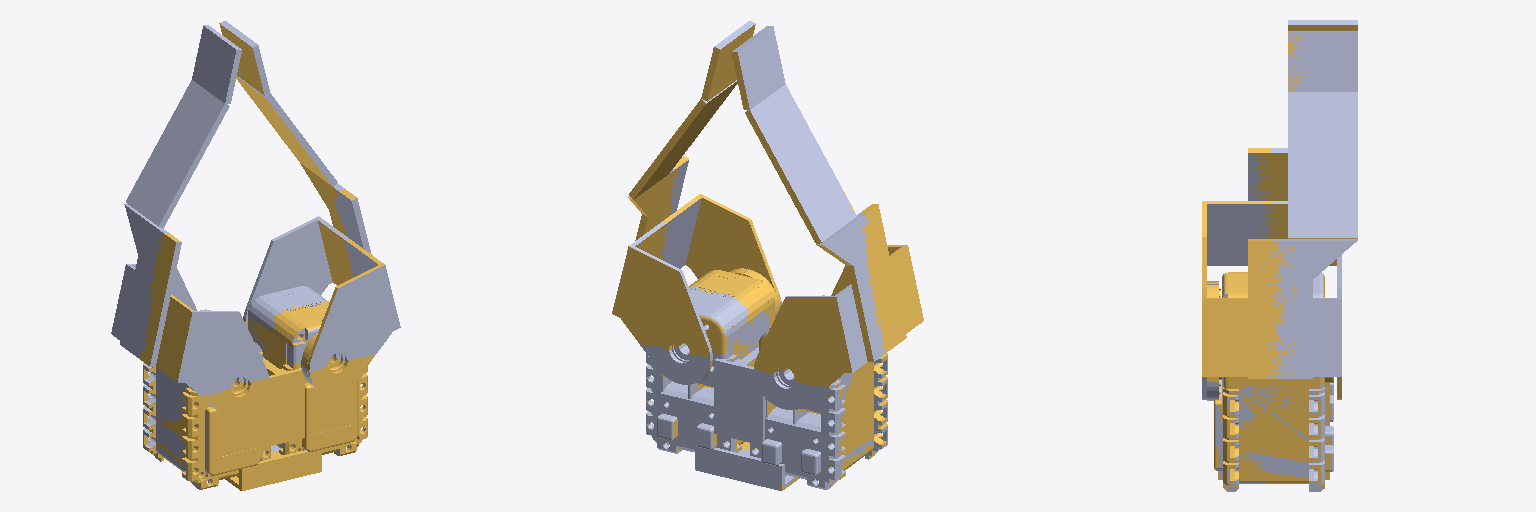
robot.urdf — iner_gripper:
<robot
  name="iner_gripper">
  <link
    name="link_gripper">
    <inertial>
      <origin
        xyz="0.0186360000045784 -0.0239524819276603 -4.86322103742292E-06"
        rpy="0 0 0" />
      <mass
        value="0.00620045258525398" />
      <inertia
        ixx="2.10353421967729E-06"
        ixy="4.27721992210268E-16"
        ixz="1.76022005561585E-17"
        iyy="1.23544763674616E-06"
        iyz="-4.55763759743226E-10"
        izz="1.33321993660794E-06" />
    </inertial>
    <visual>
      <origin
        xyz="0 0 0"
        rpy="0 0 0" />
      <geometry>
        <mesh
          filename="package://iner_gripper/meshes/link_gripper.STL" />
      </geometry>
      <material
        name="">
        <color
          rgba="1 0.815686274509804 0.403921568627451 1" />
      </material>
    </visual>
    <collision>
      <origin
        xyz="0 0 0"
        rpy="0 0 0" />
      <geometry>
        <mesh
          filename="package://iner_gripper/meshes/link_gripper.STL" />
      </geometry>
    </collision>
  </link>
  <link
    name="link_finger0">
    <inertial>
      <origin
        xyz="-0.0017581 -0.002764 -0.00033443"
        rpy="0 0 0" />
      <mass
        value="0.051949" />
      <inertia
        ixx="4.6849E-05"
        ixy="1.3689E-06"
        ixz="1.6512E-08"
        iyy="1.1379E-05"
        iyz="4.819E-06"
        izz="4.442E-05" />
    </inertial>
    <visual>
      <origin
        xyz="0 0 0"
        rpy="0 0 0" />
      <geometry>
        <mesh
          filename="package://iner_gripper/meshes/link_finger0.STL" />
      </geometry>
      <material
        name="">
        <color
          rgba="0.79216 0.81961 0.93333 1" />
      </material>
    </visual>
    <collision>
      <origin
        xyz="0 0 0"
        rpy="0 0 0" />
      <geometry>
        <mesh
          filename="package://iner_gripper/meshes/link_finger0.STL" />
      </geometry>
    </collision>
  </link>
  <joint
    name="joint_finger0"
    type="continuous">
    <origin
      xyz="0 0 0"
      rpy="1.5708 0 0" />
    <parent
      link="link_gripper" />
    <child
      link="link_finger0" />
    <axis
      xyz="0 0 1" />
  </joint>
  <link
    name="link_finger1">
    <inertial>
      <origin
        xyz="0.0016323 -0.0027478 -0.00023083"
        rpy="0 0 0" />
      <mass
        value="0.051949" />
      <inertia
        ixx="4.6873E-05"
        ixy="-1.1823E-06"
        ixz="-5.1839E-08"
        iyy="1.1382E-05"
        iyz="4.8186E-06"
        izz="4.4447E-05" />
    </inertial>
    <visual>
      <origin
        xyz="0 0 0"
        rpy="0 0 0" />
      <geometry>
        <mesh
          filename="package://iner_gripper/meshes/link_finger1.STL" />
      </geometry>
      <material
        name="">
        <color
          rgba="0.79216 0.81961 0.93333 1" />
      </material>
    </visual>
    <collision>
      <origin
        xyz="0 0 0"
        rpy="0 0 0" />
      <geometry>
        <mesh
          filename="package://iner_gripper/meshes/link_finger1.STL" />
      </geometry>
    </collision>
  </link>
  <joint
    name="joint_finger1"
    type="continuous">
    <origin
      xyz="0.037272 0.0001036 0"
      rpy="1.5708 0 0" />
    <parent
      link="link_gripper" />
    <child
      link="link_finger1" />
    <axis
      xyz="0 0 1" />
  </joint>
</robot>

--- What the picture shows (computed from the rendered views, not written in the file) ---
The picture shows the robot from 3 angles, left to right: view 1: azimuth 30°, elevation 25°; view 2: azimuth 150°, elevation 25°; view 3: azimuth 270°, elevation 25°; orthographic projection.
Model iner_gripper with 3 links and 2 joints (2 continuous), rooted at link_gripper, posed all joints at 0.
Visible links, largest first — view 1: link_finger0, link_gripper, link_finger1; view 2: link_gripper, link_finger0, link_finger1; view 3: link_finger0, link_gripper, link_finger1.
Link boxes in pixels (left/top/right/bottom): link_finger0: left=111, top=21, right=400, bottom=489; link_gripper: left=140, top=23, right=384, bottom=490; link_finger1: left=127, top=25, right=391, bottom=488; link_gripper: left=612, top=24, right=923, bottom=490; link_finger0: left=628, top=21, right=887, bottom=490; link_finger1: left=629, top=26, right=887, bottom=488; link_finger0: left=1202, top=20, right=1357, bottom=491; link_gripper: left=1202, top=25, right=1357, bottom=489; link_finger1: left=1207, top=21, right=1349, bottom=469.
Bounding box of the posed robot: 0.0903 × 0.049 × 0.1507 m (x, y, z).
Meshes: 3 distinct files referenced, 3 mesh visuals loaded (3 binary STL).